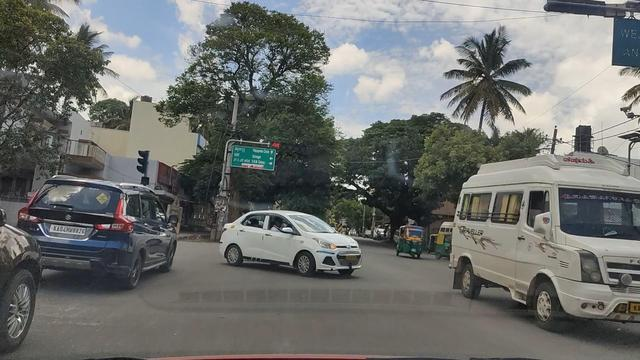LMV: (33, 185, 178, 289), (220, 209, 366, 275)
